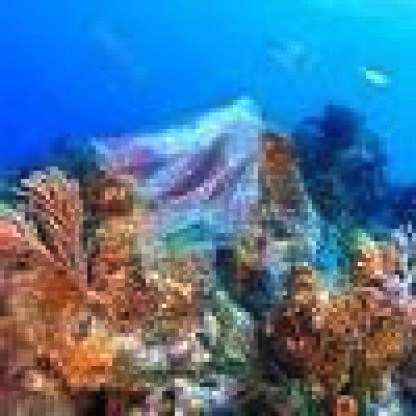pbag: (83, 91, 270, 283)
